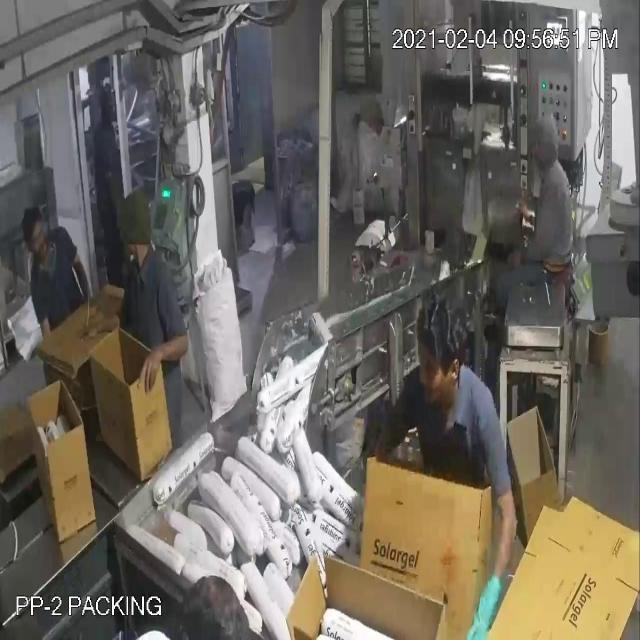No_Gloves: (62, 78, 491, 546)
